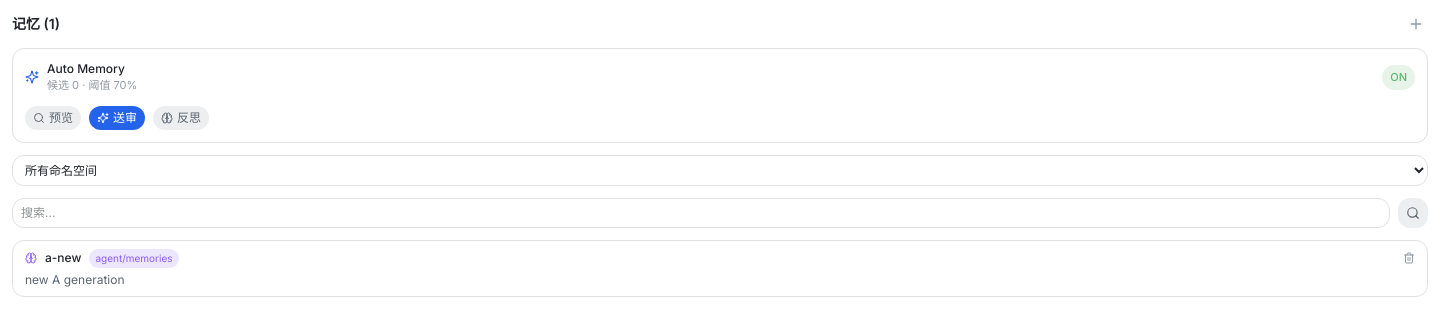
it: MemoryPanel workspace projection › rejects an old A generation after A to B to A and same-scope request reordering
Expected: the text "new A generation" is shown, 25,272 -> 124,286
Type "new" into the field with placeholder "搜索..." at (701, 212), box 12,198 -> 1390,228
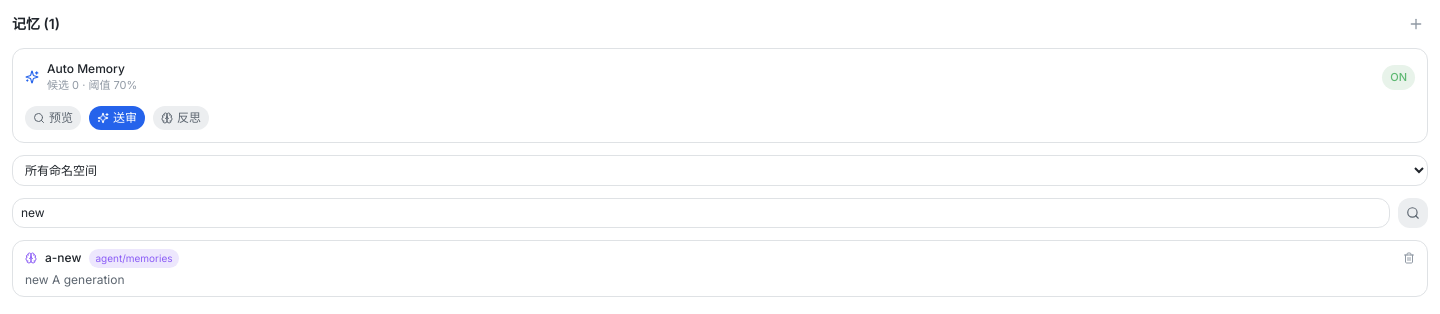
Press Enter in the field with placeholder "搜索...", box 12,198 -> 1390,228
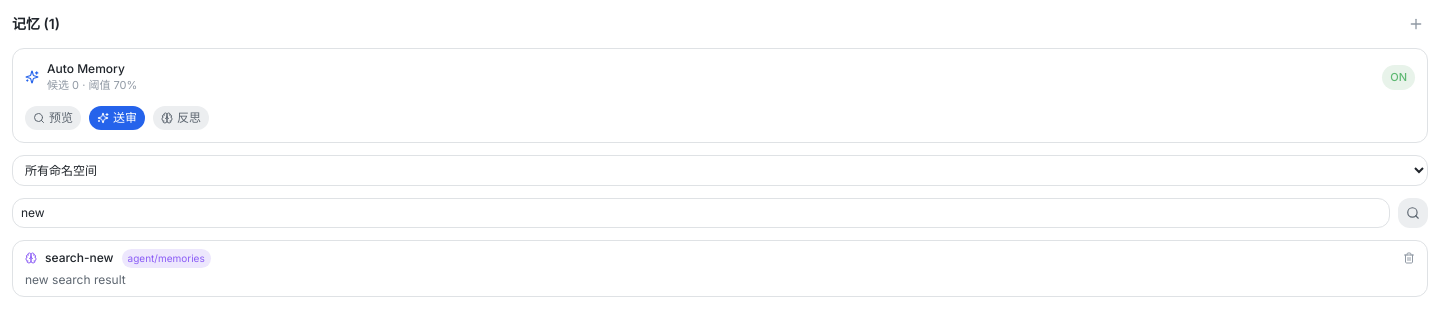
Expected: the text "new search result" is shown, 25,272 -> 126,286
